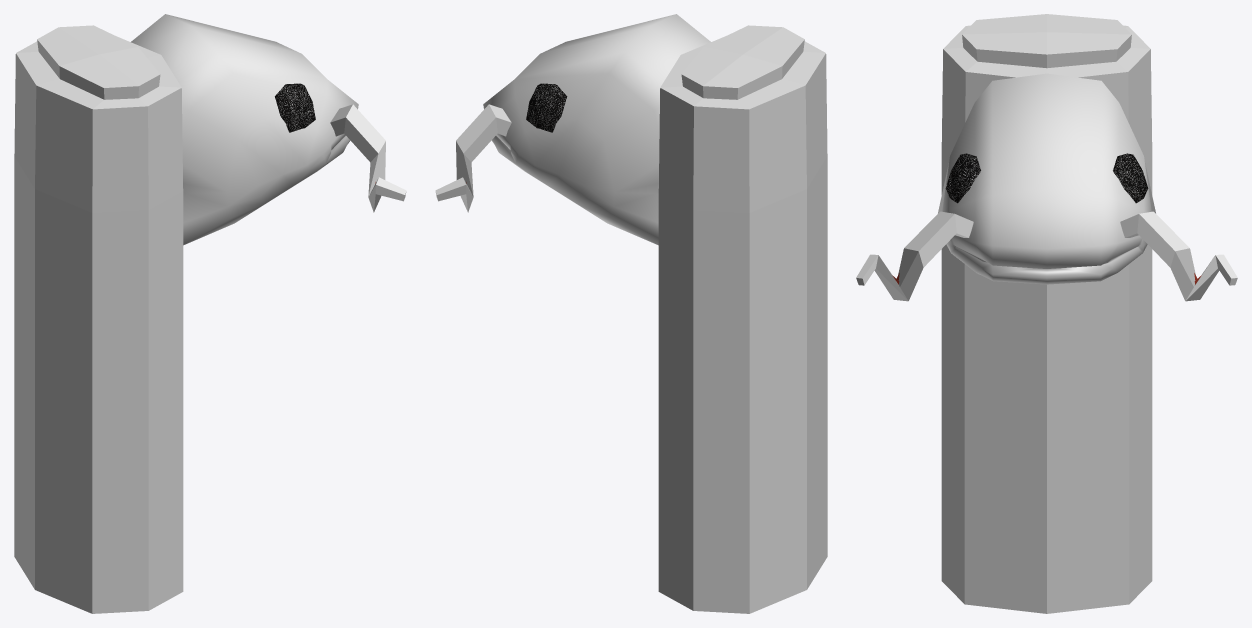
File: MS_FishEnemy.fbx
The picture shows the model from 3 angles, left to right: view 1: azimuth 30°, elevation 25°; view 2: azimuth 150°, elevation 25°; view 3: azimuth 270°, elevation 25°; orthographic projection. The views are drawn at different scales.
Parts seen in each view (by area): view 1: Cube.002; view 2: Cube.002; view 3: Cube.002.
Boxes of the visible parts, x1,y1,x2,y2 form: Cube.002: (14, 14, 406, 613); Cube.002: (435, 14, 827, 613); Cube.002: (856, 14, 1237, 613).
Bounding box in the file's own units: 669 × 1125 × 702.
Materials: 2 (1 with a texture image).
